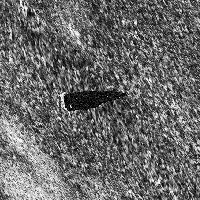mine: (56, 88, 128, 112)
